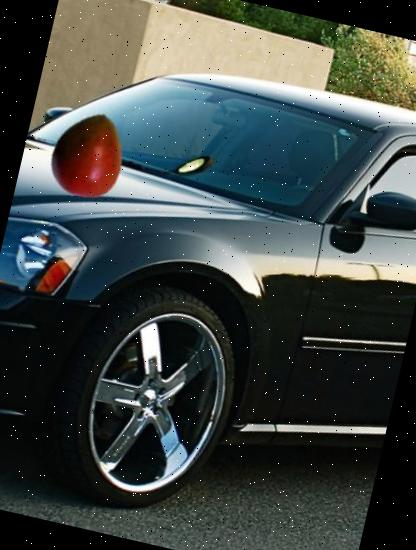Mango: (36, 102, 142, 208)
